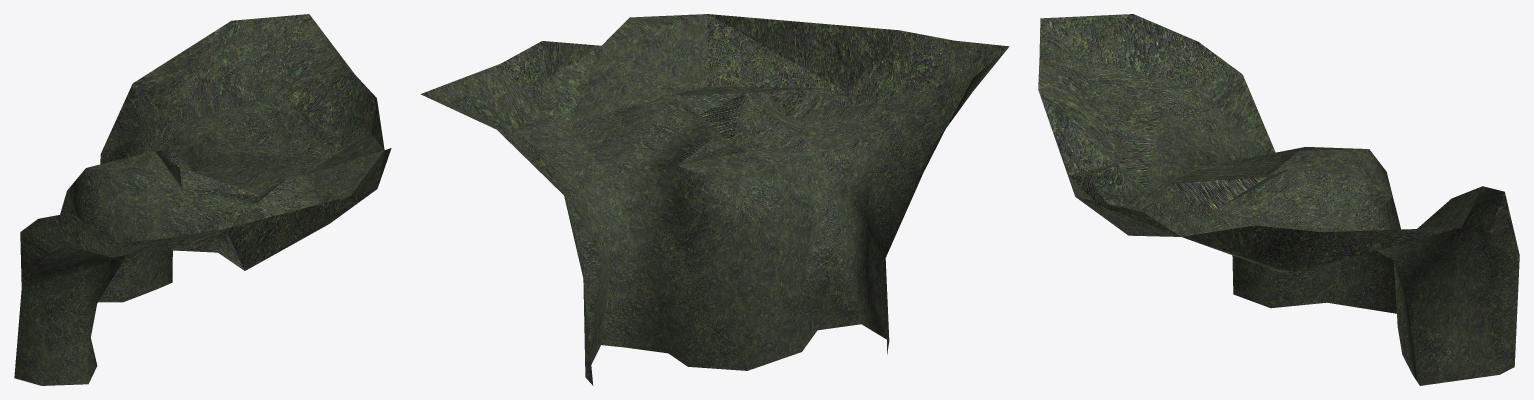
File: cliff_coner_in_00_lod_01.fbx
The picture shows the model from 3 angles, left to right: view 1: azimuth 30°, elevation 25°; view 2: azimuth 150°, elevation 25°; view 3: azimuth 270°, elevation 25°; orthographic projection. The views are drawn at different scales.
Parts seen in each view (by area): view 1: cliff_coner_in_00; view 2: cliff_coner_in_00; view 3: cliff_coner_in_00.
Boxes of the visible parts, x1,y1,x2,y2 form: cliff_coner_in_00: (14,14,391,385); cliff_coner_in_00: (420,14,1009,385); cliff_coner_in_00: (1038,14,1519,385).
Bounding box in the file's own units: 140 × 76.06 × 134.
